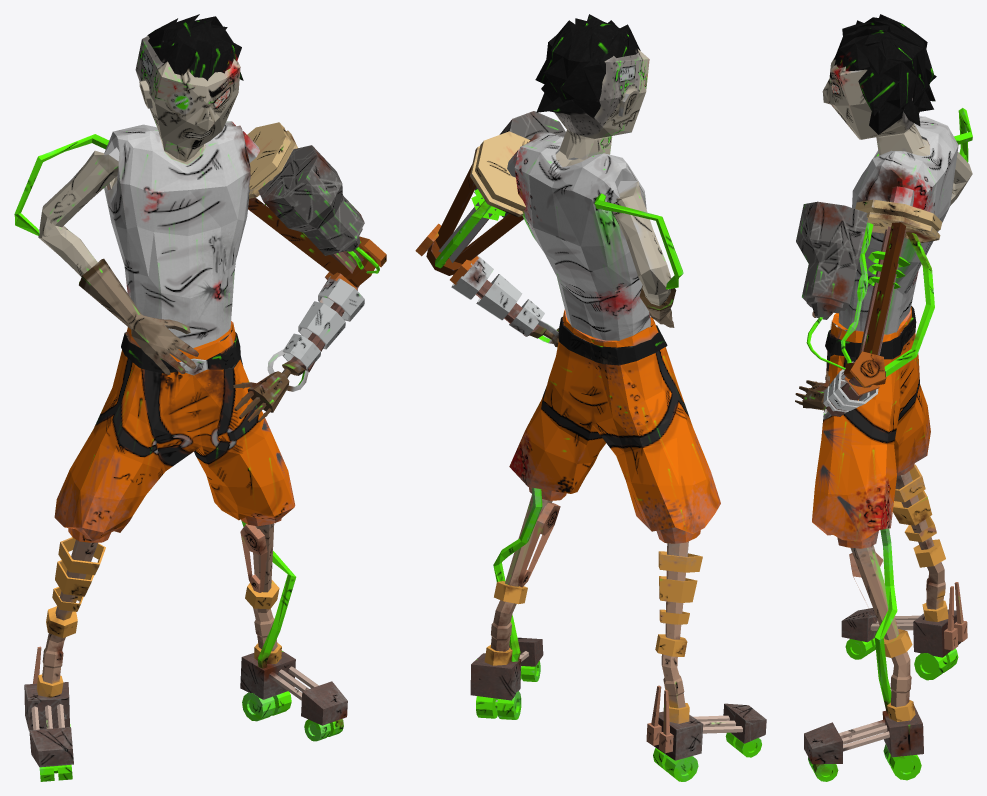
The model's file is CyborgFINALAnimation_000041.obj.
The picture shows the model from 3 angles, left to right: view 1: azimuth 30°, elevation 25°; view 2: azimuth 150°, elevation 25°; view 3: azimuth 270°, elevation 25°; orthographic projection. The views are drawn at different scales.
Visible parts, largest first — view 1: CyborgMesh_Cube.002; view 2: CyborgMesh_Cube.002; view 3: CyborgMesh_Cube.002.
Part boxes in pixels (bbox=[...]): CyborgMesh_Cube.002: bbox=[14, 14, 386, 781]; CyborgMesh_Cube.002: bbox=[415, 14, 766, 781]; CyborgMesh_Cube.002: bbox=[795, 14, 972, 781].
Size of the model in its own units: 4.87 by 9.61 by 2.18.
